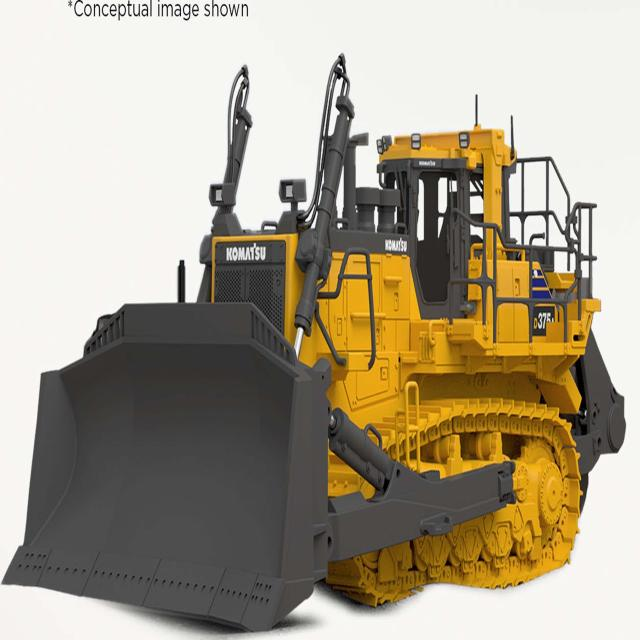Bulldozer: (10, 76, 619, 620)
